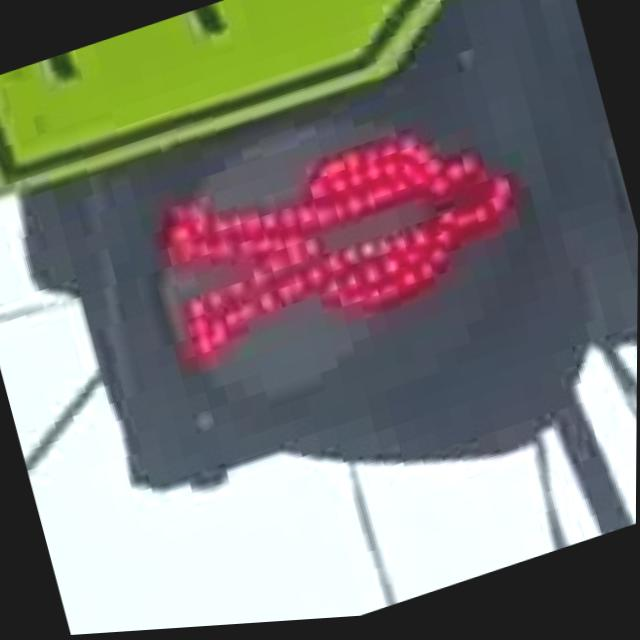red_light: (135, 88, 564, 410)
